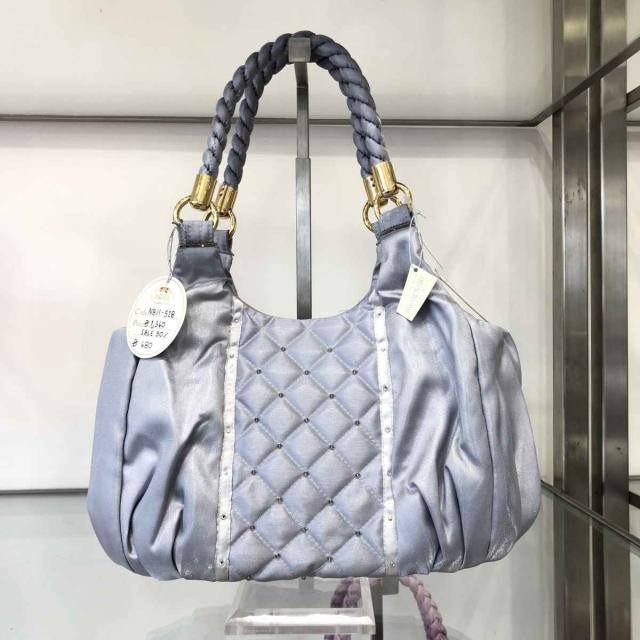handbag: (79, 194, 526, 582)
